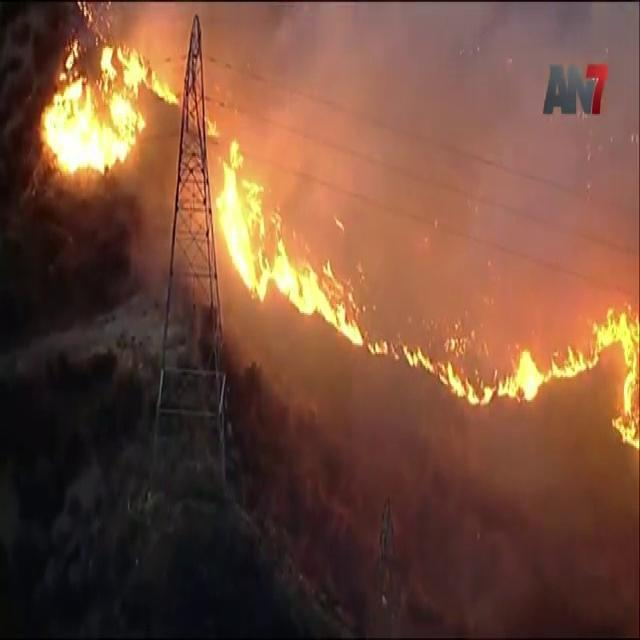Fire: (44, 88, 140, 166), (280, 256, 336, 324), (226, 165, 256, 282), (599, 318, 633, 352), (514, 364, 542, 394)
